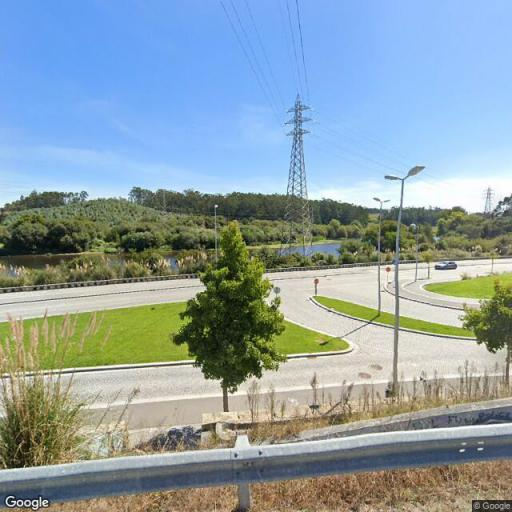ss_3: (284, 94, 315, 258), (483, 182, 493, 212)
